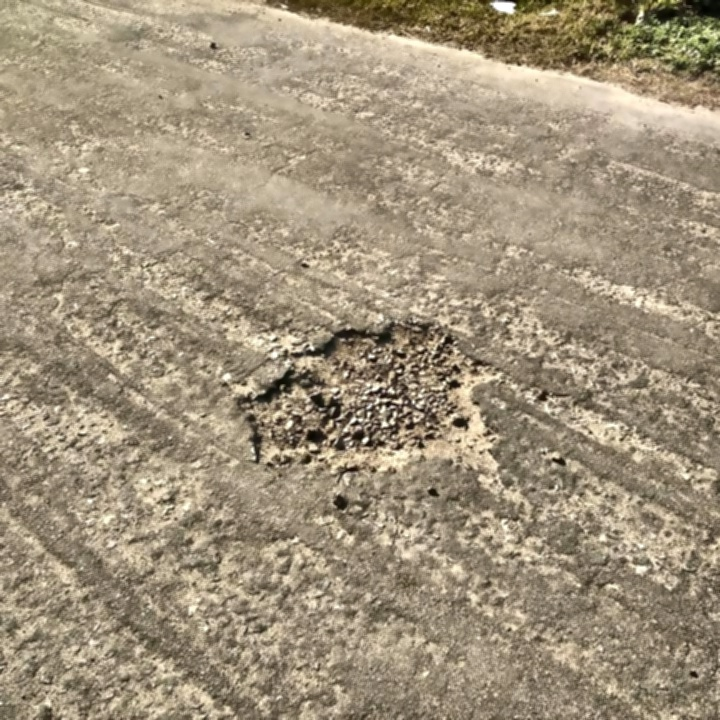pothole: (234, 316, 507, 473)
